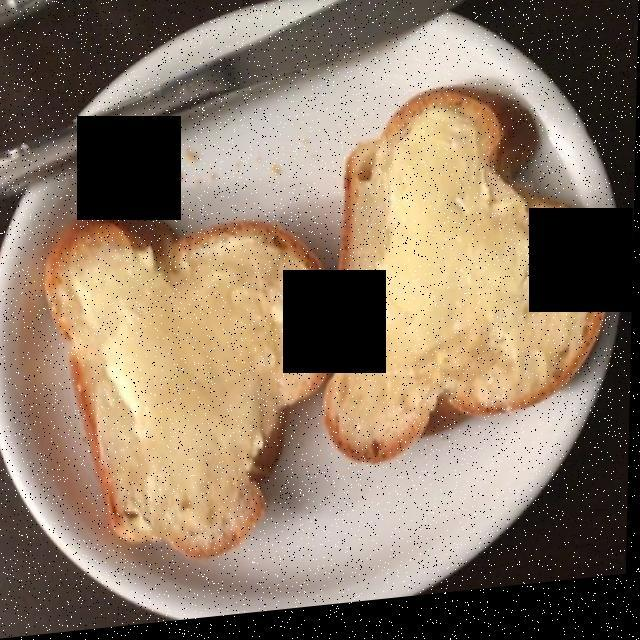bread: (50, 105, 599, 558)
butter: (88, 113, 553, 531)
